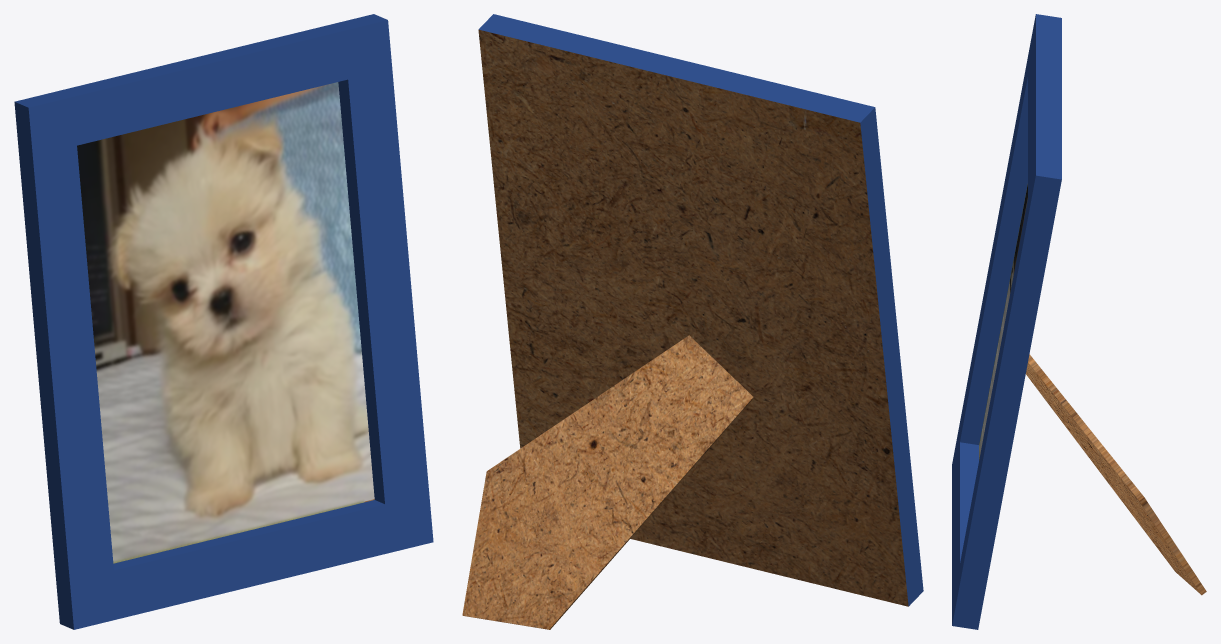
Rendered from Photo 2.FBX.
The picture shows the model from 3 angles, left to right: view 1: azimuth 30°, elevation 25°; view 2: azimuth 150°, elevation 25°; view 3: azimuth 270°, elevation 25°; orthographic projection. The views are drawn at different scales.
Visible parts, largest first — view 1: Photo 2; view 2: Photo 2; view 3: Photo 2.
Part boxes in pixels (x1,y1,x2,y2): Photo 2: (14, 14, 433, 629); Photo 2: (462, 14, 923, 629); Photo 2: (952, 14, 1206, 629).
Size of the model in its own units: 14.3 by 18.75 by 9.53.
Materials: 1 (1 with a texture image).
